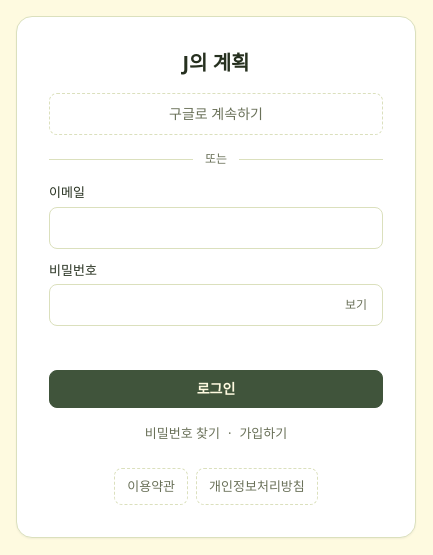
Scenario: 로그인 화면 /login (US-34, D-072) › 실패하면 BE 문구 한 줄, 화면은 그대로 (입력값 유지)
This screenshot has width=433, height=555.
Type "qa@example.com" into the field labelled "이메일".
click(216, 228); type("qa@example.com")  # box x1=49 y1=206 x2=383 y2=248
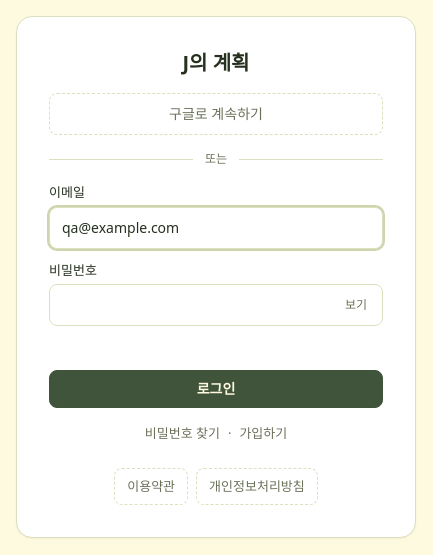
Type "pw-123456789012" into the password field labelled "비밀번호".
click(216, 305); type("pw-123456789012")  # box x1=49 y1=284 x2=383 y2=326
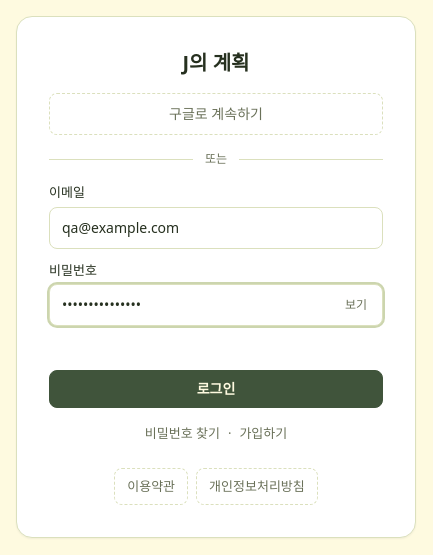
Click the button "로그인".
click(216, 389)  # box x1=49 y1=370 x2=383 y2=408
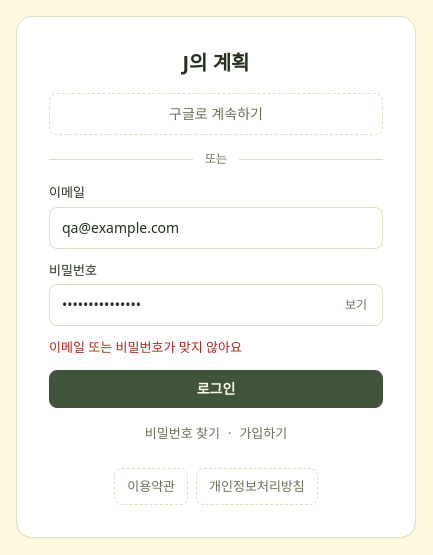
Expected: the message reads "이메일 또는 비밀번호가 맞지 않아요", x1=49 y1=338 x2=242 y2=356
